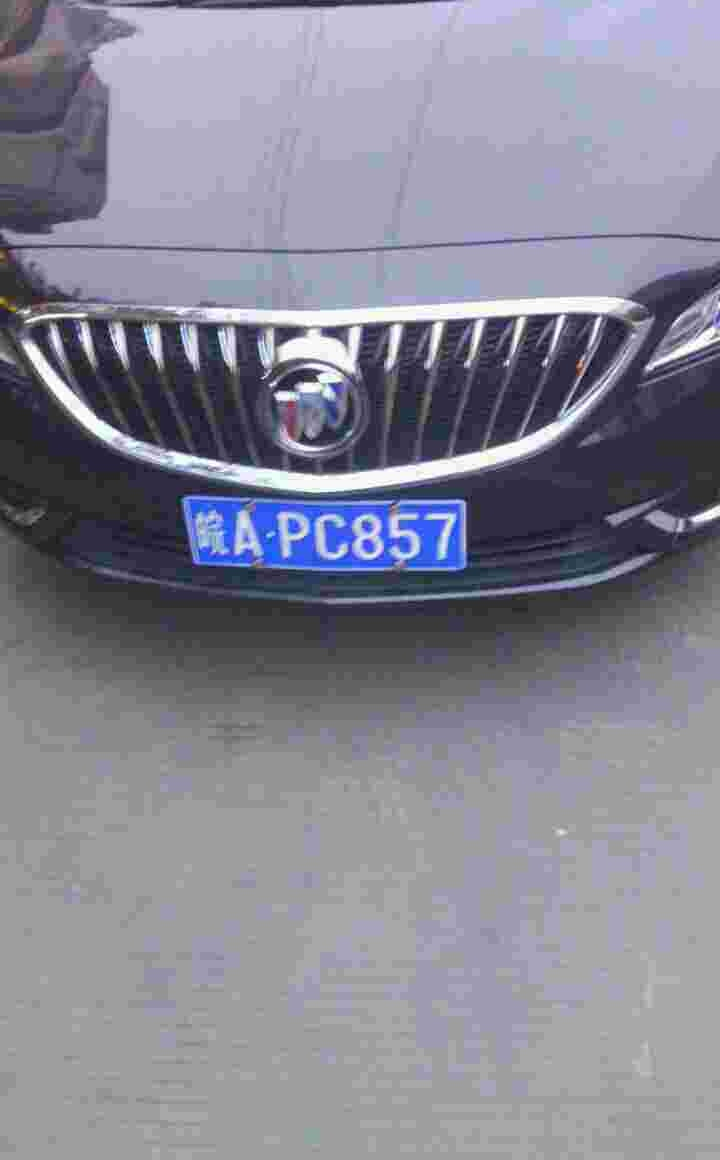license_plate: (184, 489, 461, 577)
